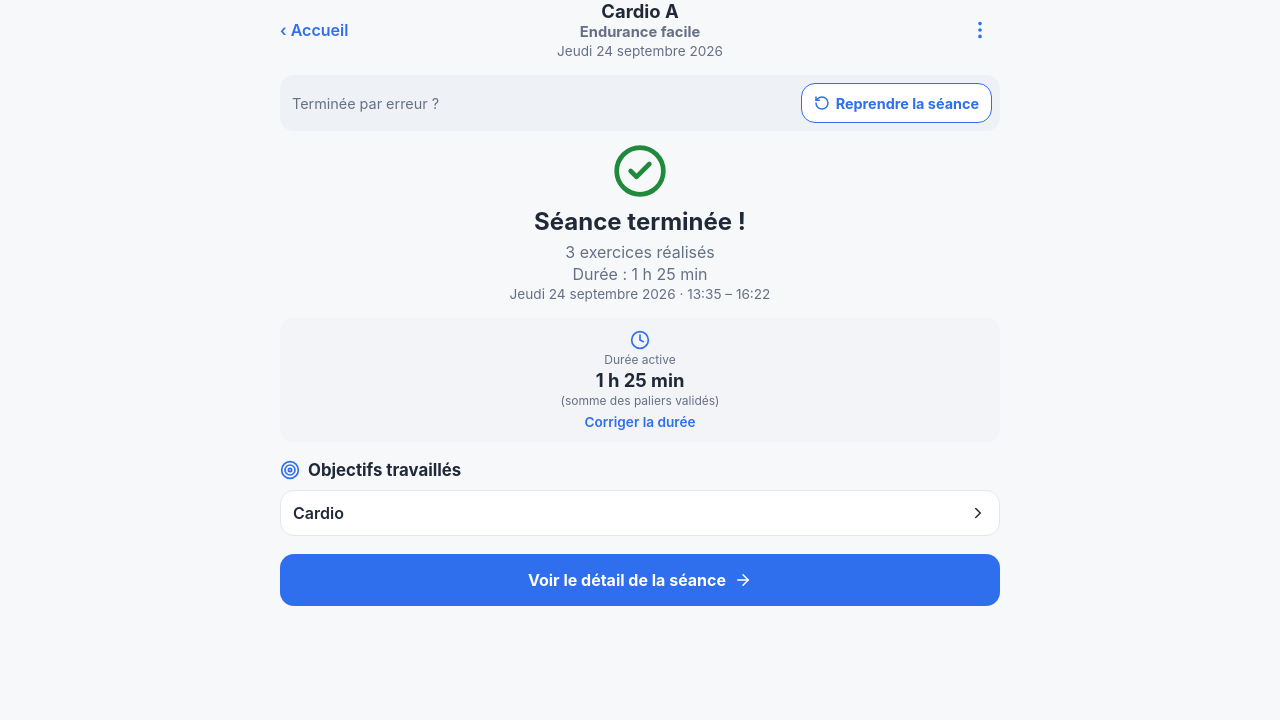
Test: durée corrigée entre Terminer et Enregistrer › écran de fin : « Corriger la durée » en minutes, l'amplitude 2 h 47 n'est plus affichée
Check: the text "(somme des paliers validés)" is shown, box [560,393,719,408]
Click the button "Corriger la durée" at [640, 422], box [584,414,696,430]
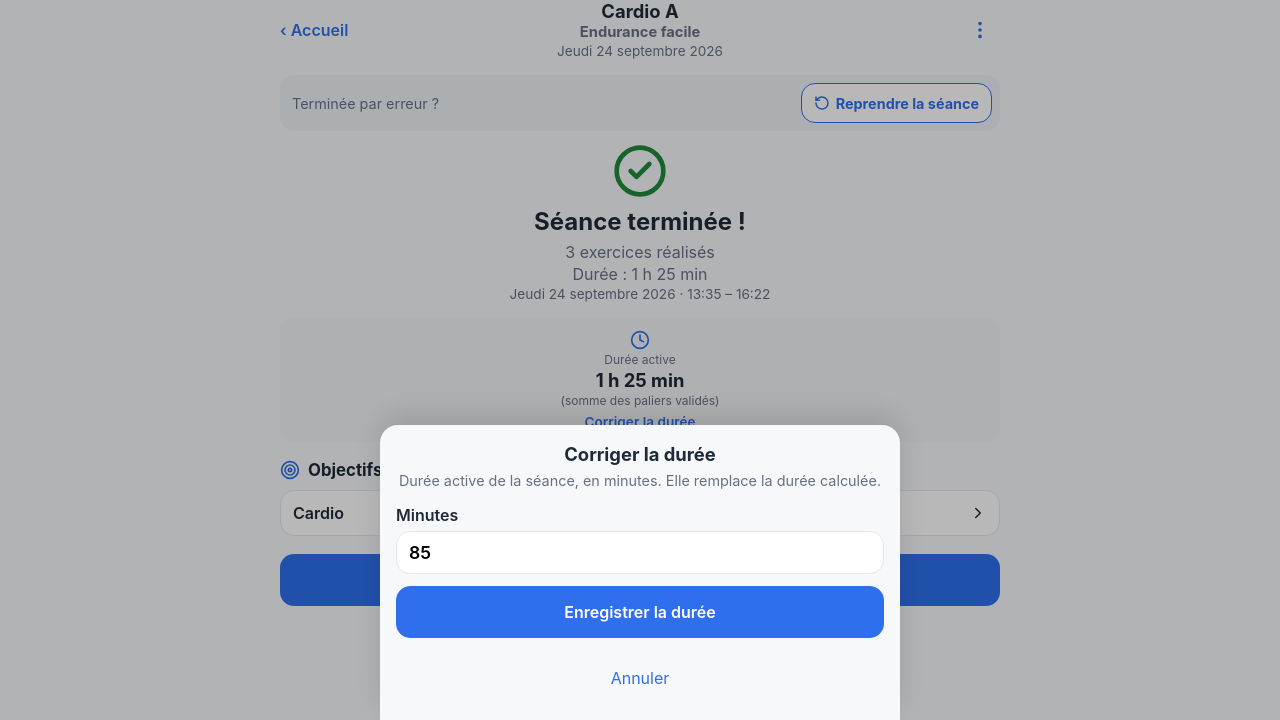
Replace the text in the number field labelled "Minutes" with "45" at [640, 552], box [396,531,884,574]
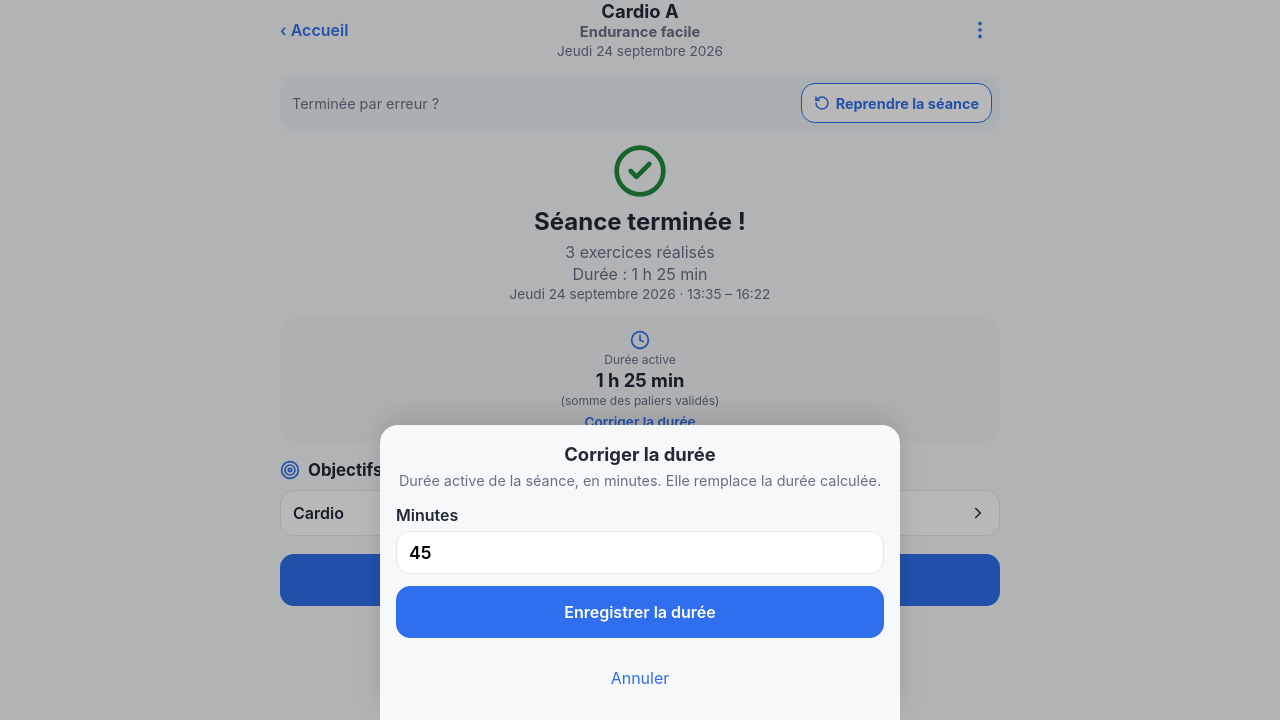
Click the button "Enregistrer la durée" at [640, 612], box [396,586,884,638]
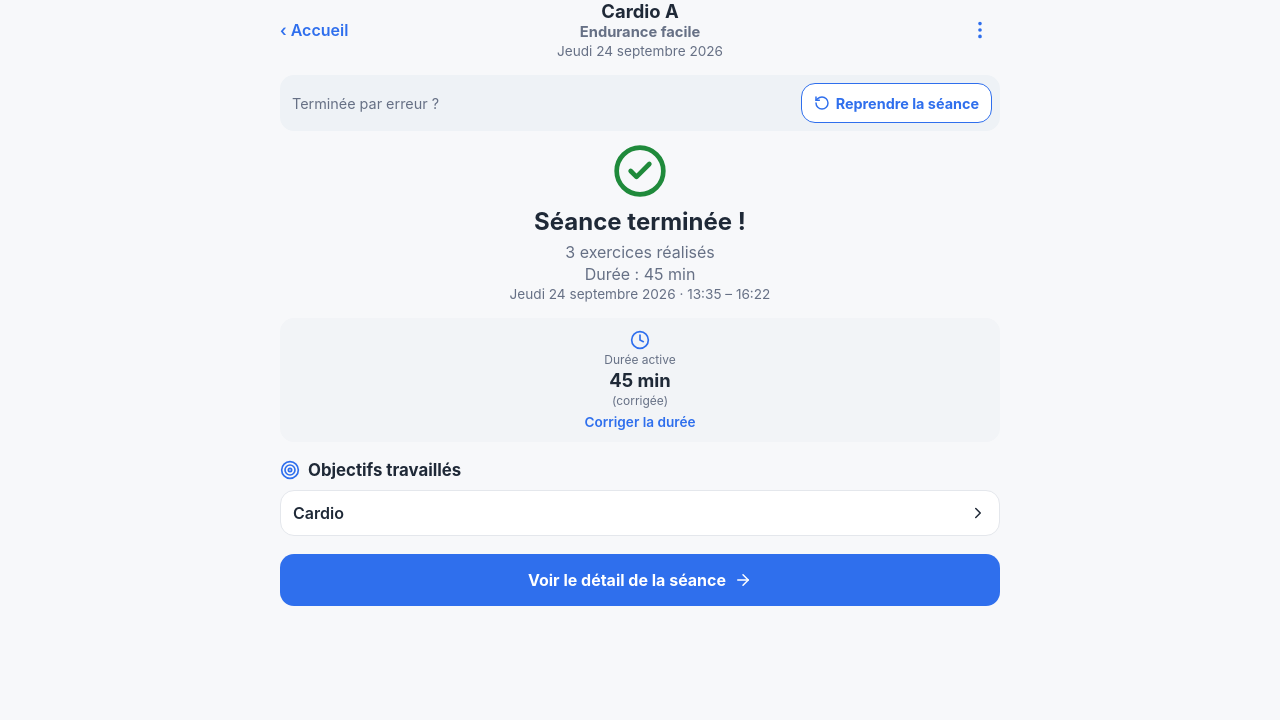
Check: the text "(corrigée)" is shown, box [612,393,668,408]
